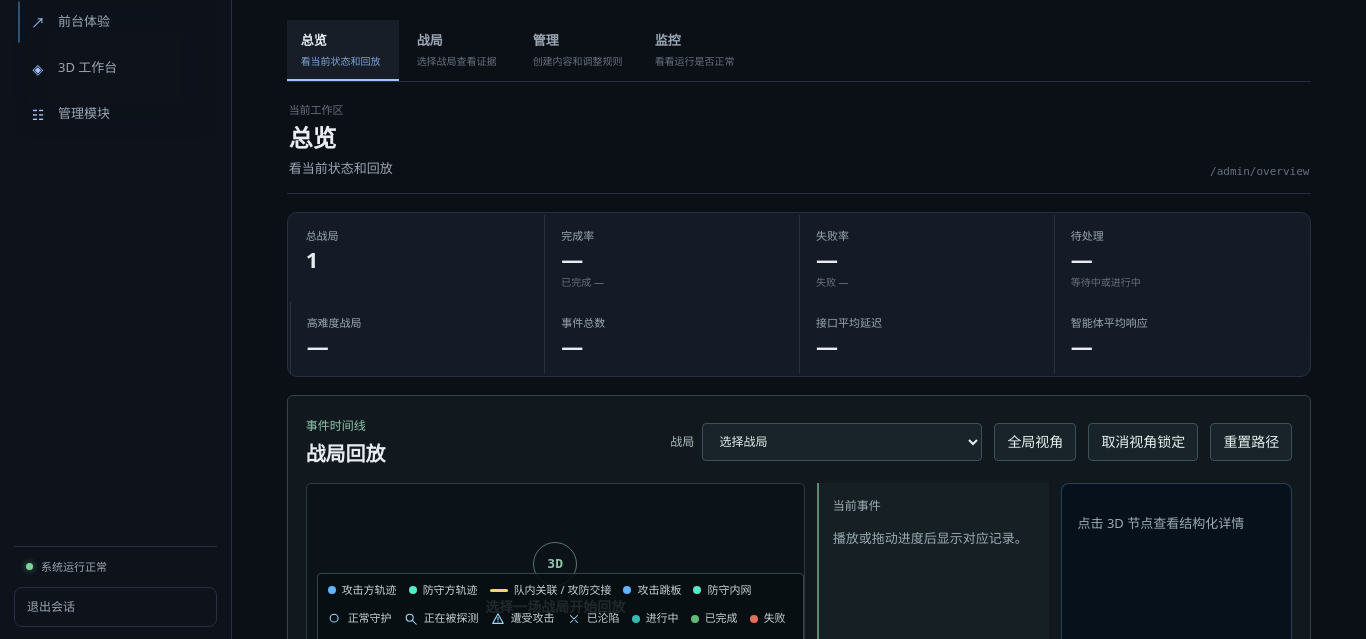
it: AdminApp › renders authenticated modules and filters battles
The image size is (1366, 639).
Check: the tab "总览 看当前状态和回放" is shown, box [287,20,399,81]
Check: the text "总战局" is shown, box [306,228,339,243]
Click the tab "监控 看看运行是否正常".
click(697, 50)  # box [641,20,753,81]
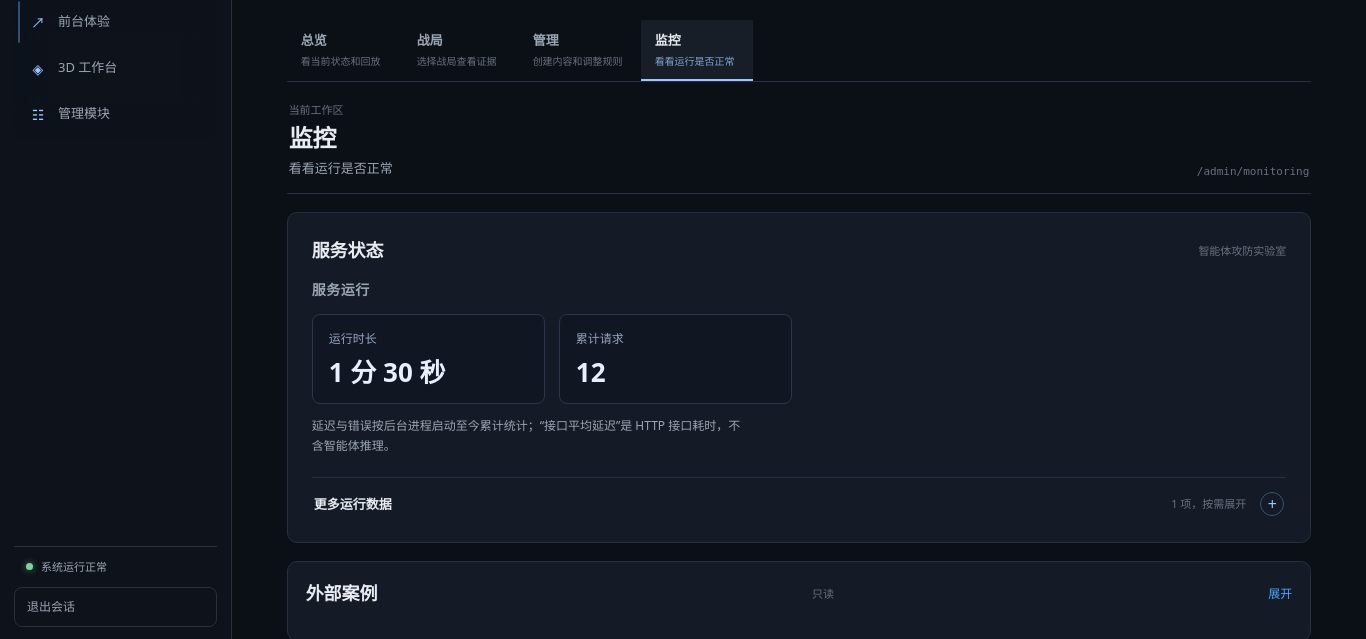
Check: the text "1 分 30 秒" is shown, box [329,354,446,390]
Click the tab "战局 选择战局查看证据".
click(459, 50)  # box [403,20,515,81]
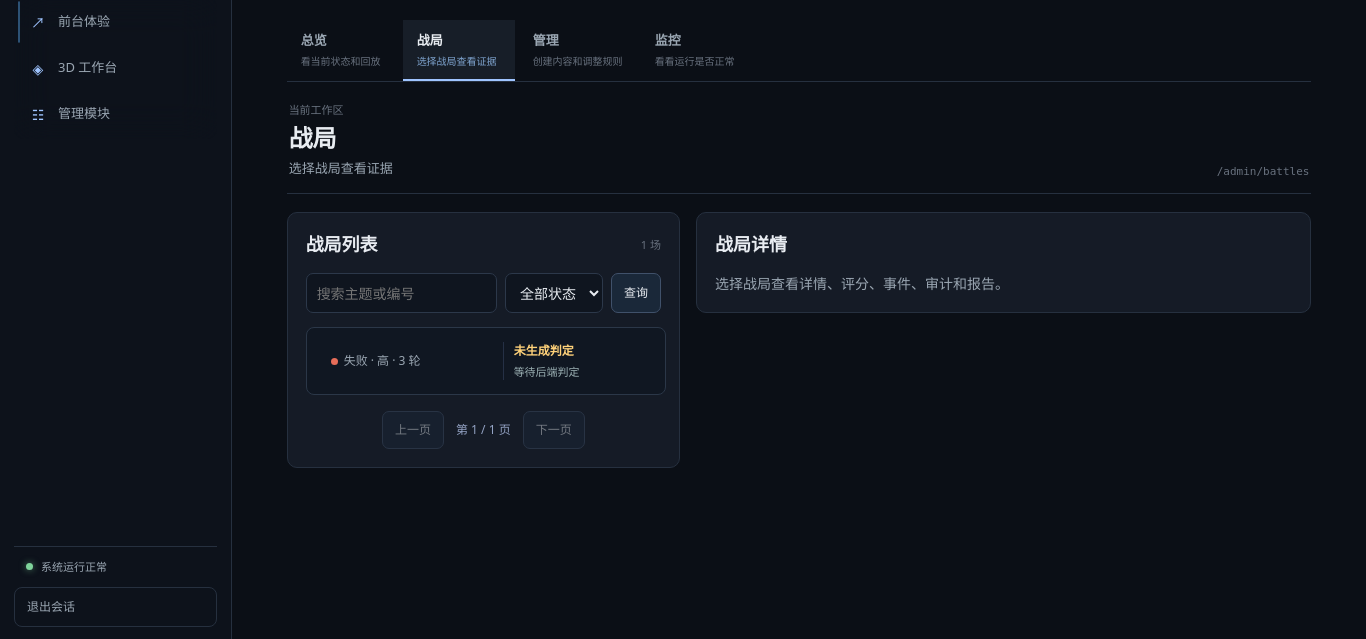
Check: the heading "战局列表" is shown, box [306,231,378,258]
Type "needle" into the field named "搜索战局".
click(401, 293); type("needle")  # box [306,273,497,313]
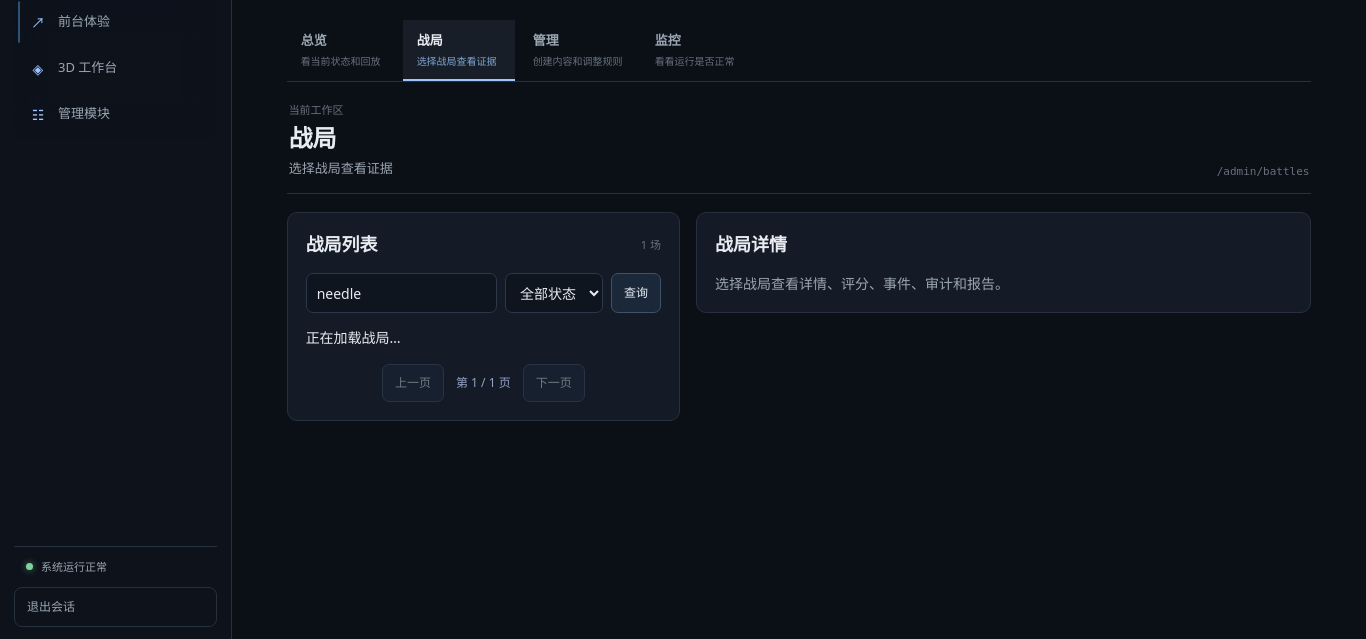
Click the tab "监控 看看运行是否正常".
click(697, 50)  # box [641,20,753,81]
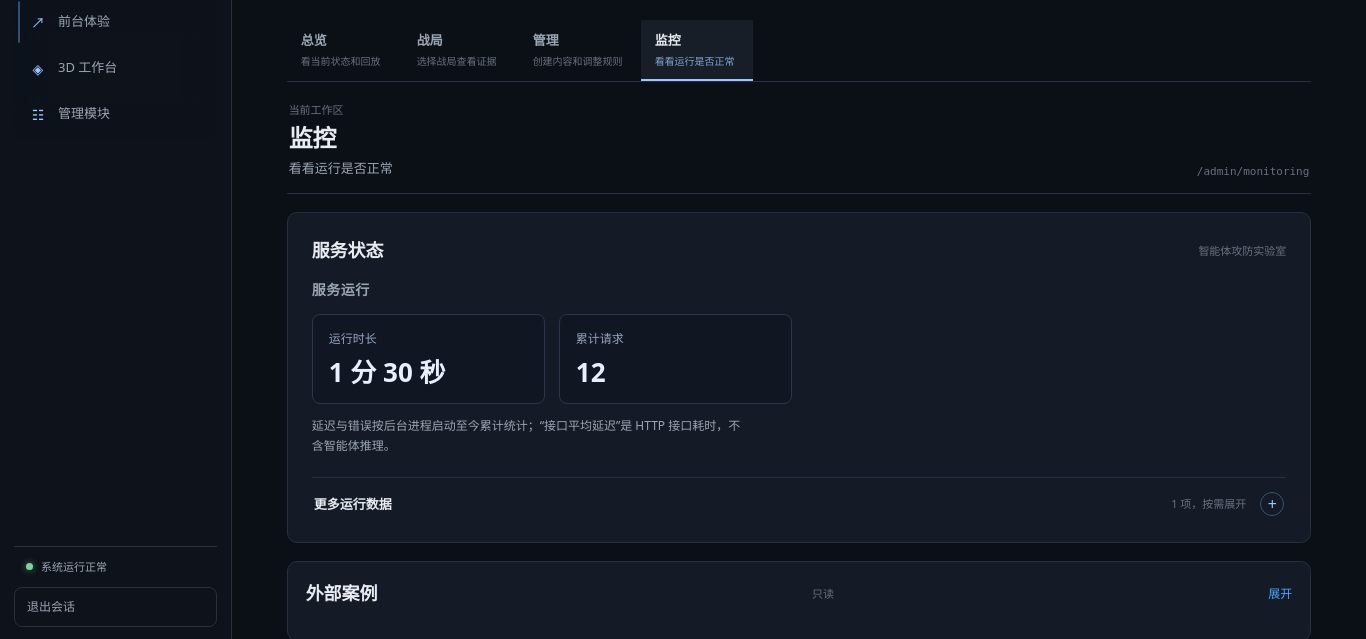
Check: the heading "外部案例" is shown
Click the heading "外部案例".
click(342, 594)  # box [306,580,378,607]
(page scrolled)
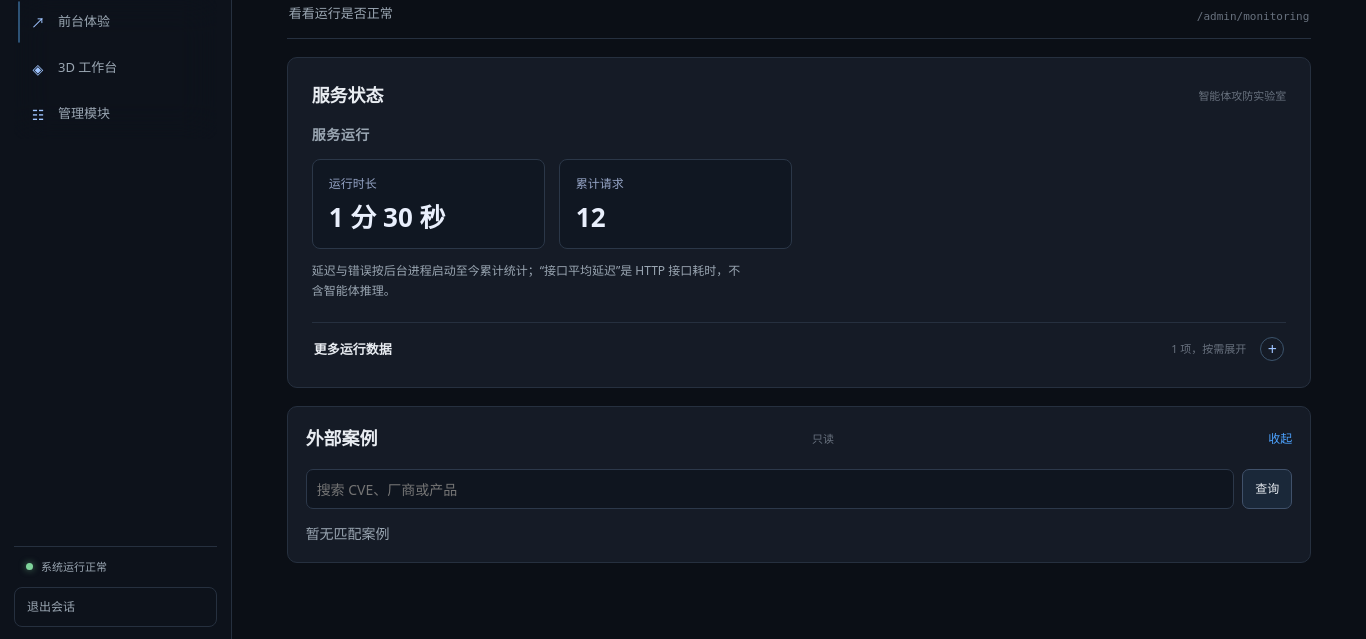
Check: the field named "搜索外部案例" is shown, box [306,469,1234,509]
